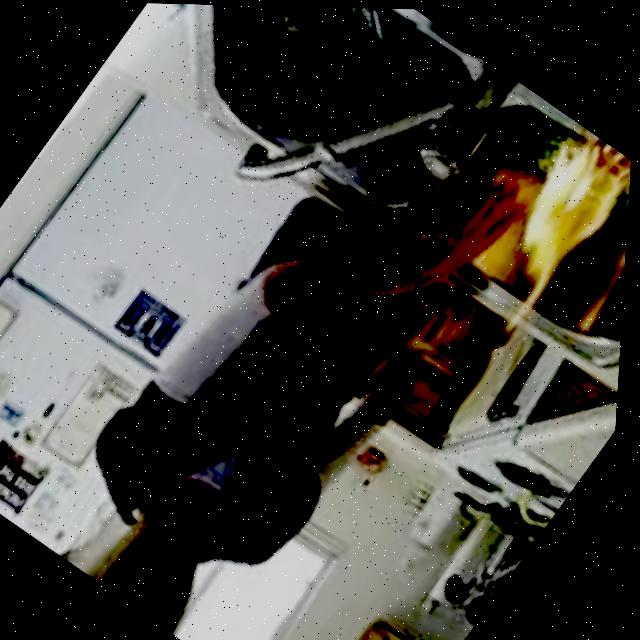Fire: (457, 125, 635, 341)
